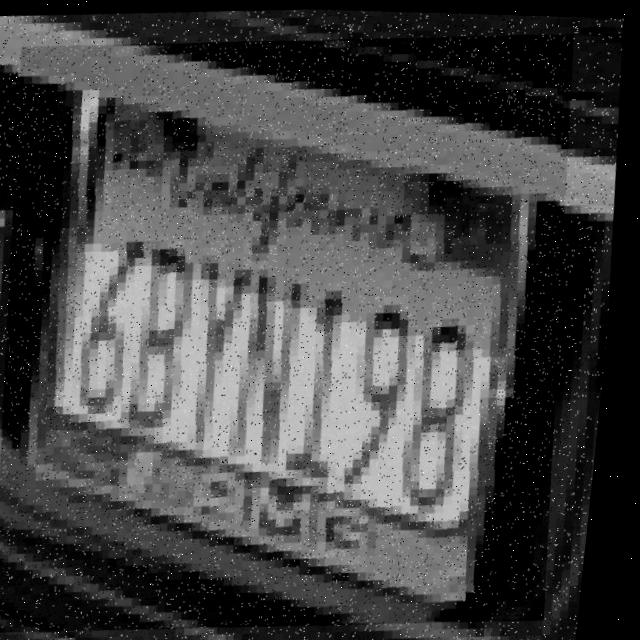LicensePlate: (0, 18, 605, 640)
